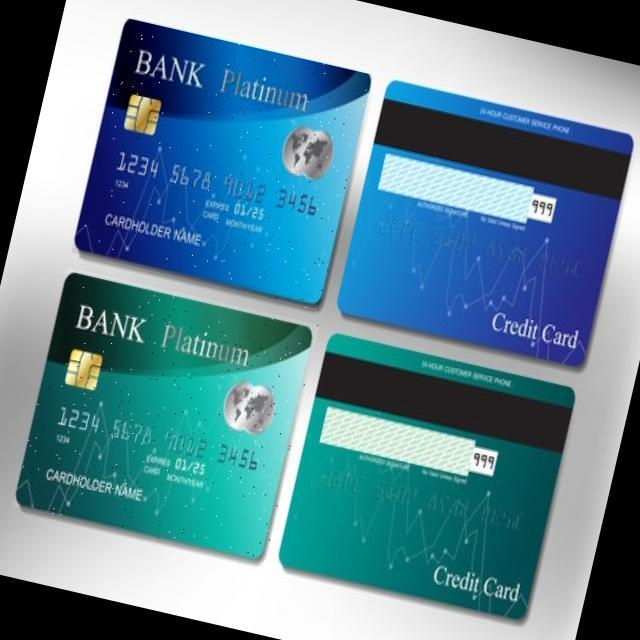payment_card: (335, 74, 632, 370), (14, 271, 315, 562), (75, 14, 372, 307)
